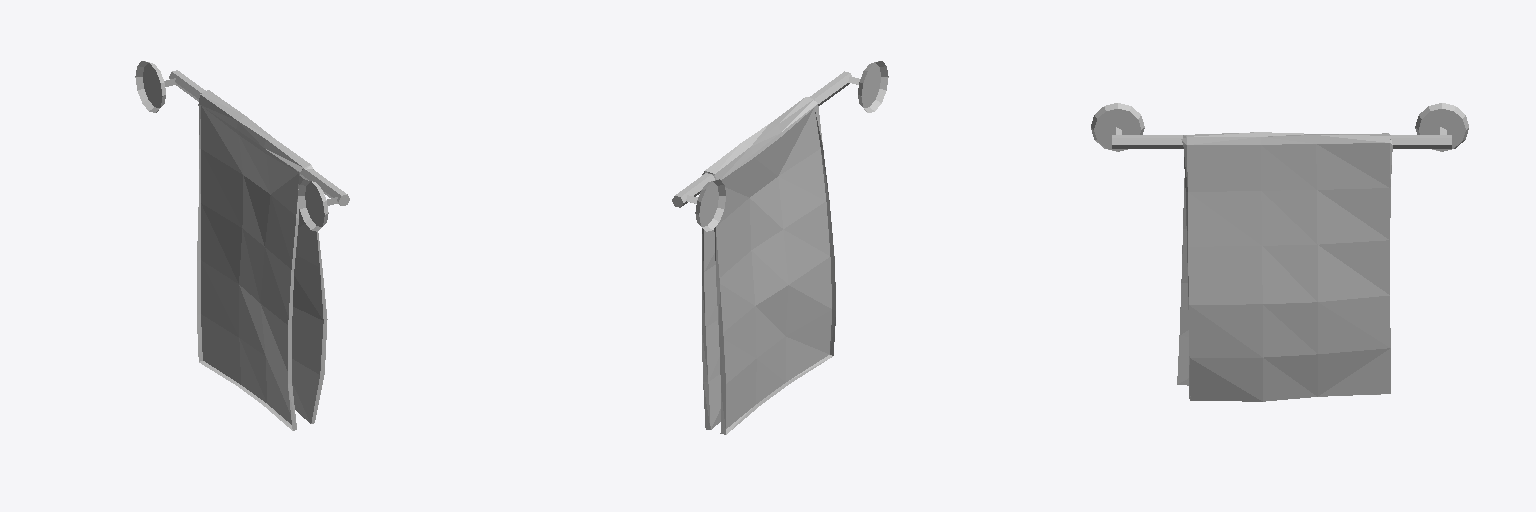
The model's file is Towel_a.obj.
3 renders of one model, left to right at view 1: azimuth 30°, elevation 25°; view 2: azimuth 150°, elevation 25°; view 3: azimuth 270°, elevation 25°, orthographic.
Parts seen in each view (by area): view 1: Towel_a_Plane.015; view 2: Towel_a_Plane.015; view 3: Towel_a_Plane.015.
Part boxes in pixels (left/top/right/bottom): Towel_a_Plane.015: left=135, top=61, right=349, bottom=430; Towel_a_Plane.015: left=672, top=61, right=888, bottom=434; Towel_a_Plane.015: left=1091, top=103, right=1468, bottom=401.
Size of the model in its own units: 0.1101 by 0.5713 by 0.6971.